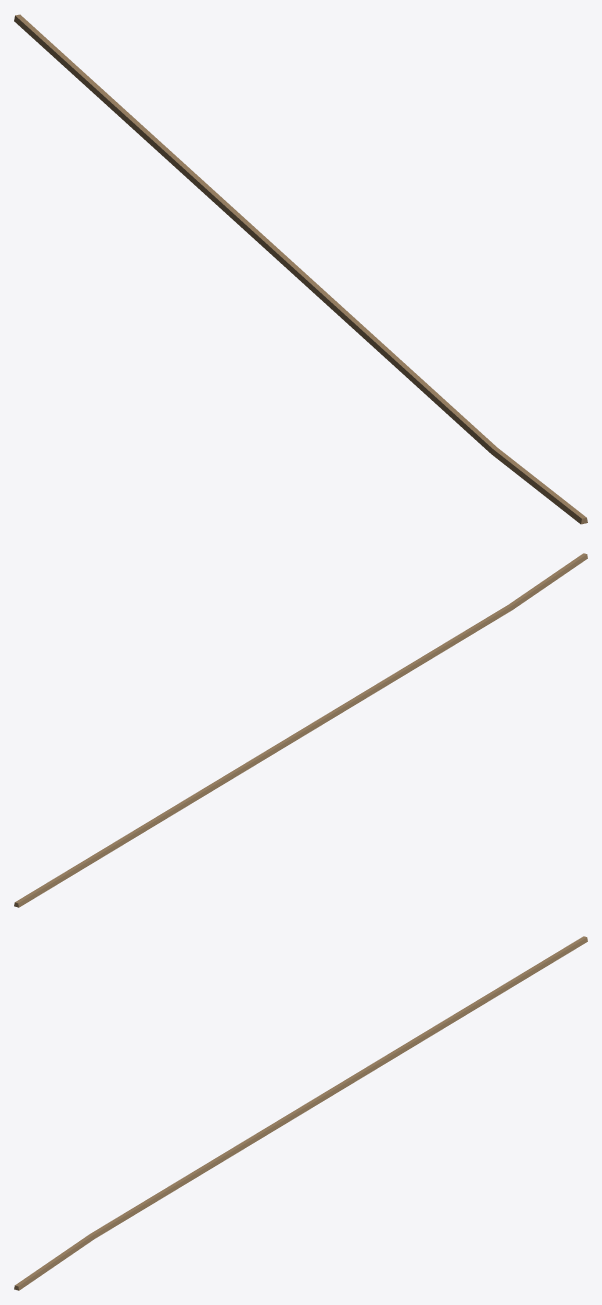
Rendered from wall-03.glb.
The picture shows the model from 3 angles, top to bottom: view 1: azimuth 30°, elevation 25°; view 2: azimuth 150°, elevation 25°; view 3: azimuth 330°, elevation 25°; orthographic projection. The views are drawn at different scales.
Parts seen in each view (by area): view 1: C_wall_A_03; view 2: C_wall_A_03; view 3: C_wall_A_03.
Boxes of the visible parts, bbox=[...] form: C_wall_A_03: bbox=[14, 14, 587, 524]; C_wall_A_03: bbox=[14, 553, 587, 907]; C_wall_A_03: bbox=[14, 936, 587, 1290].
Size of the model in its own units: 113 by 6.03 by 1315.
